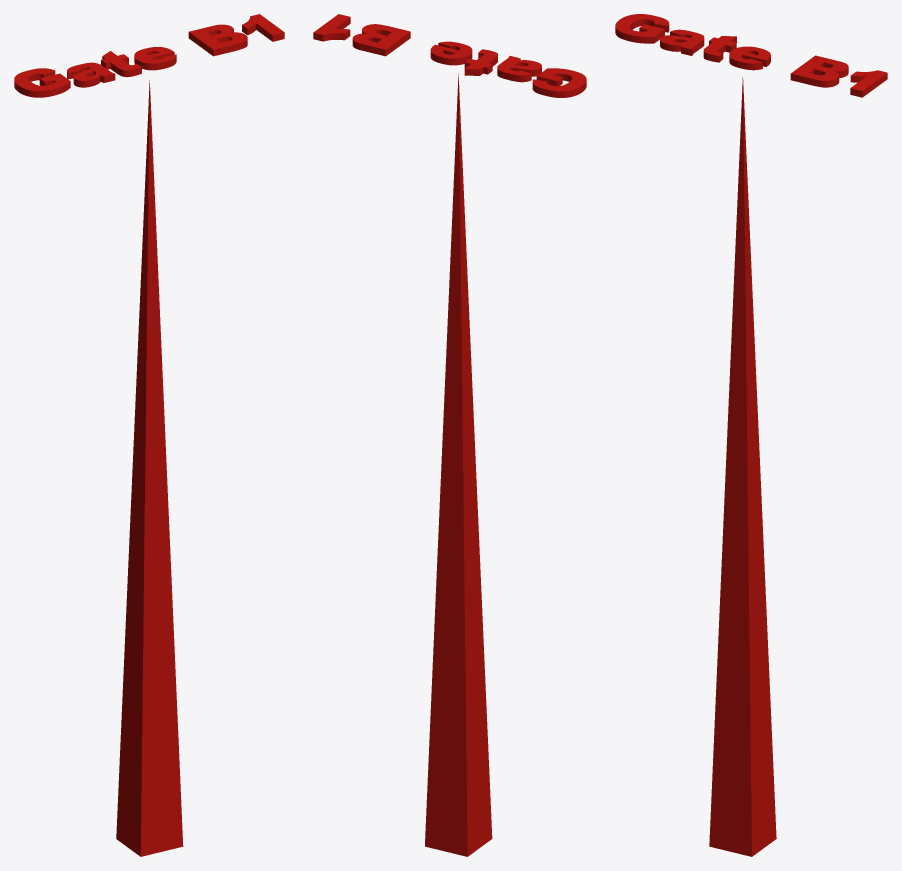
File: Tag_Gate_B1.FBX
3 renders of one model, left to right at view 1: azimuth 30°, elevation 25°; view 2: azimuth 150°, elevation 25°; view 3: azimuth 330°, elevation 25°, orthographic.
Visible parts, largest first — view 1: Tag_Nail_Gate002, Tag_Text_Gate_03; view 2: Tag_Nail_Gate002, Tag_Text_Gate_03; view 3: Tag_Nail_Gate002, Tag_Text_Gate_03.
Boxes of the visible parts, left/top/right/bottom form: Tag_Nail_Gate002: left=116, top=80, right=183, bottom=856; Tag_Text_Gate_03: left=14, top=14, right=284, bottom=97; Tag_Nail_Gate002: left=425, top=73, right=492, bottom=856; Tag_Text_Gate_03: left=313, top=14, right=586, bottom=97; Tag_Nail_Gate002: left=709, top=77, right=776, bottom=856; Tag_Text_Gate_03: left=615, top=14, right=887, bottom=97.
Bounding box in the file's own units: 658 × 1944 × 132.
